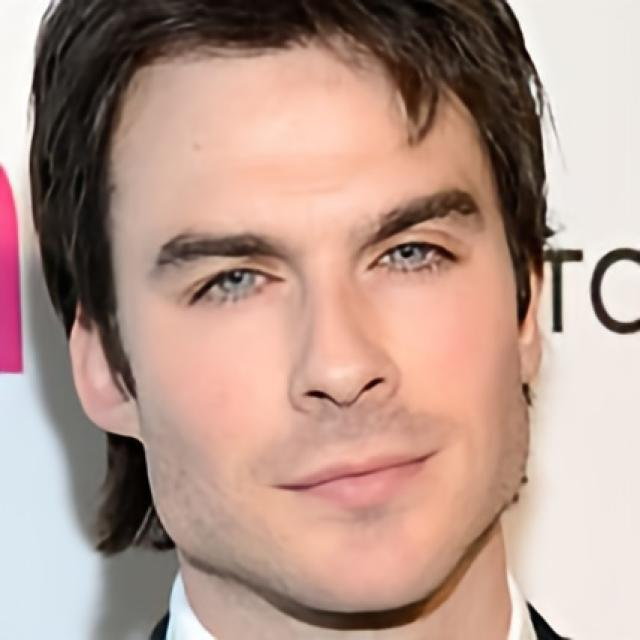content: (106, 30, 520, 610)
